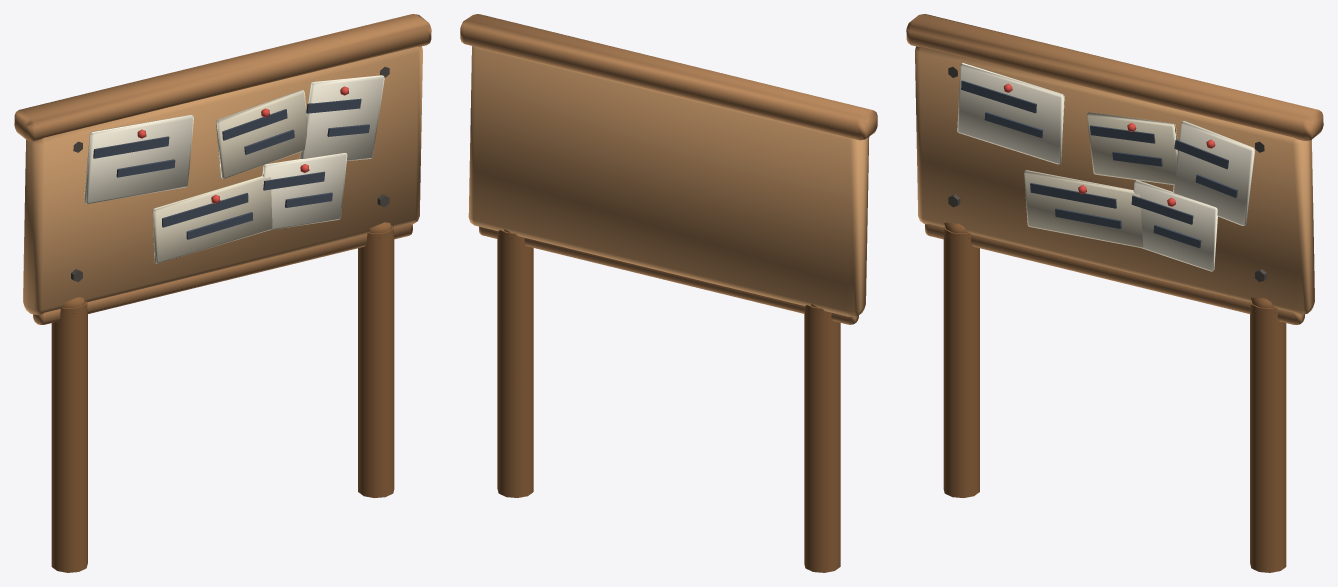
File: v_notice_board.glb
3 views of the same model, side by side, from view 1: azimuth 30°, elevation 25°; view 2: azimuth 150°, elevation 25°; view 3: azimuth 330°, elevation 25° (orthographic).
Visible parts, largest first — view 1: NoticeBoard; view 2: NoticeBoard; view 3: NoticeBoard.
Part boxes in pixels (left/top/right/bottom): NoticeBoard: left=14, top=14, right=431, bottom=572; NoticeBoard: left=460, top=14, right=877, bottom=572; NoticeBoard: left=906, top=14, right=1323, bottom=572.
Size of the model in its own units: 1.64 by 1.79 by 0.1703.
